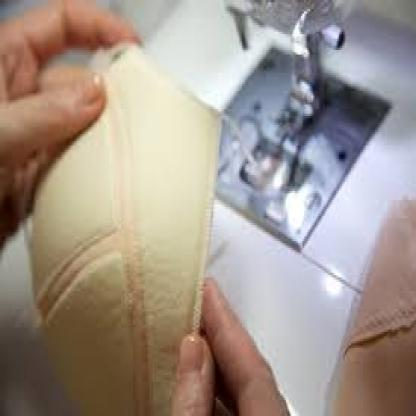Miscellaneous: (0, 36, 272, 415)
